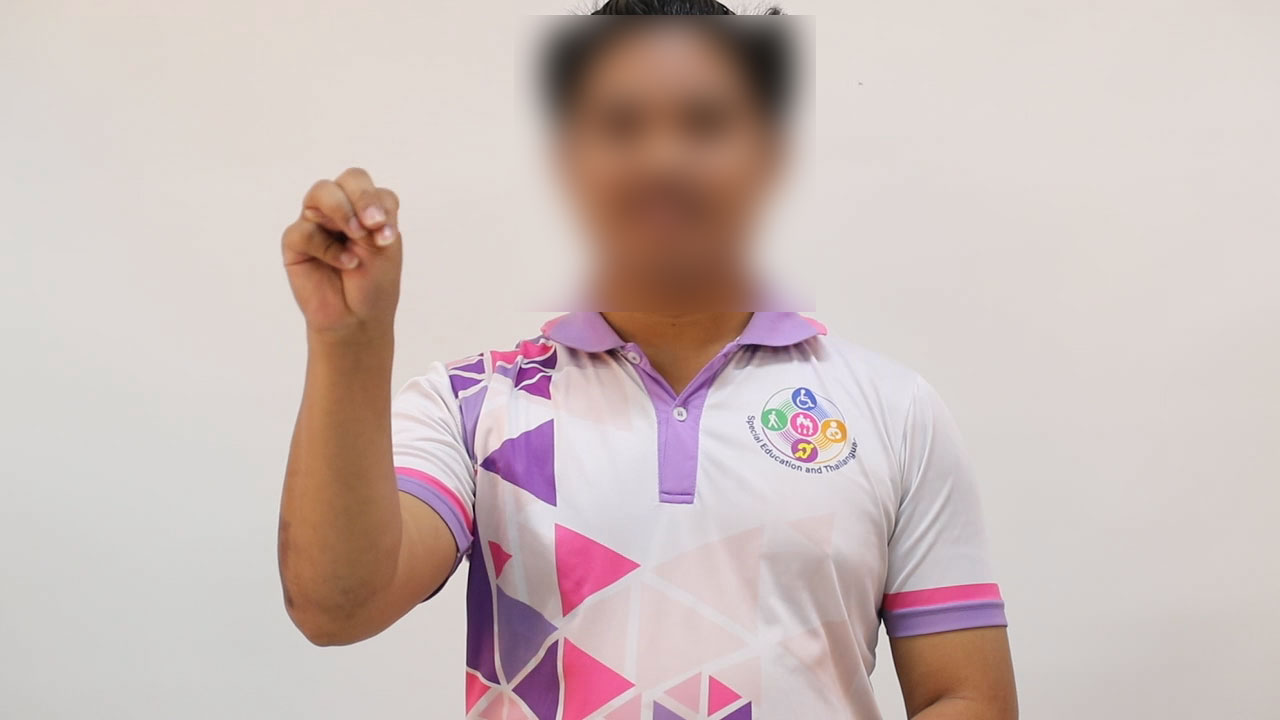mor: (261, 147, 428, 354)
